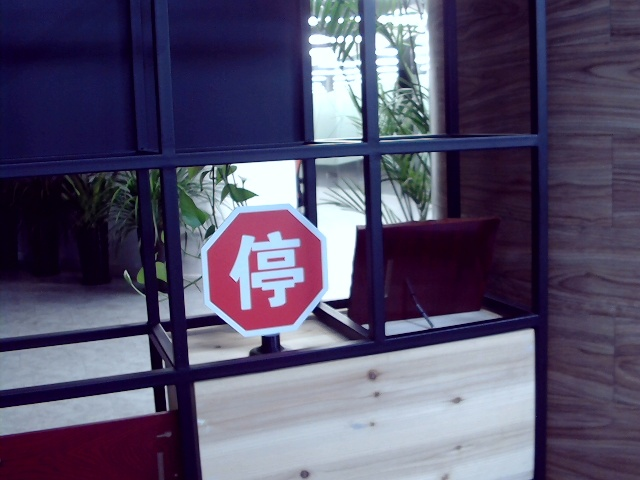stop: (224, 231, 303, 310)
